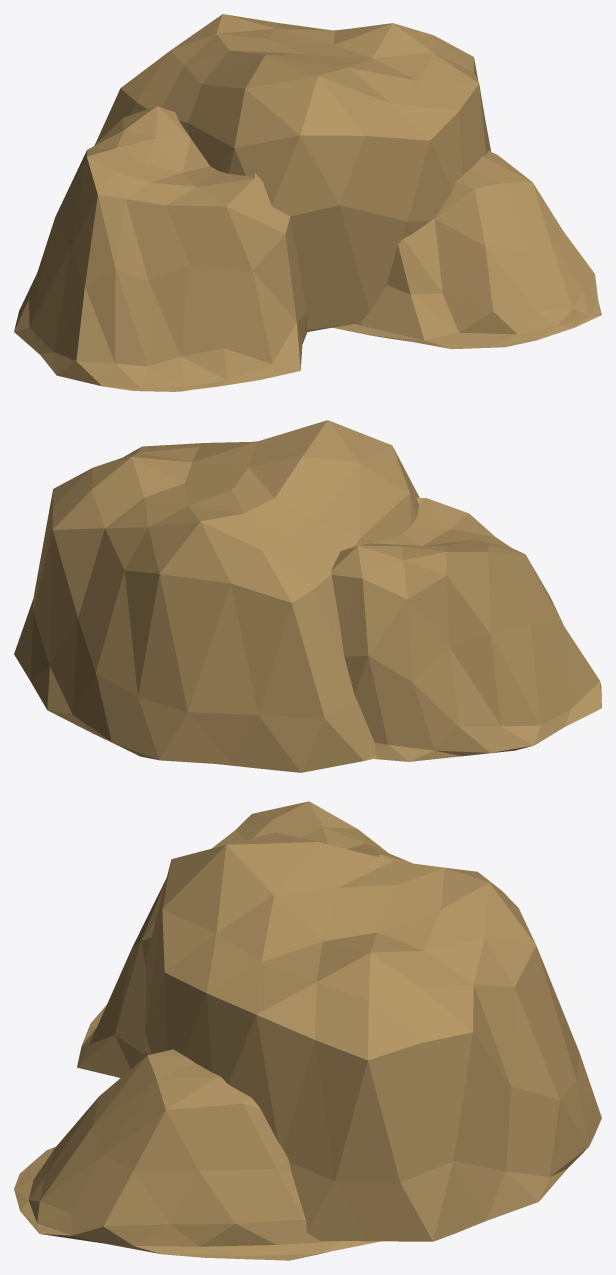
The model's file is Stone1.fbx.
The picture shows the model from 3 angles, top to bottom: view 1: azimuth 30°, elevation 25°; view 2: azimuth 150°, elevation 25°; view 3: azimuth 270°, elevation 25°; orthographic projection. The views are drawn at different scales.
Visible parts, largest first — view 1: Stone1; view 2: Stone1; view 3: Stone1.
Part boxes in pixels (left/top/right/bottom): Stone1: left=14, top=14, right=601, bottom=391; Stone1: left=14, top=420, right=601, bottom=772; Stone1: left=14, top=801, right=601, bottom=1260.
Size of the model in its own units: 1259 by 540 by 1052.
